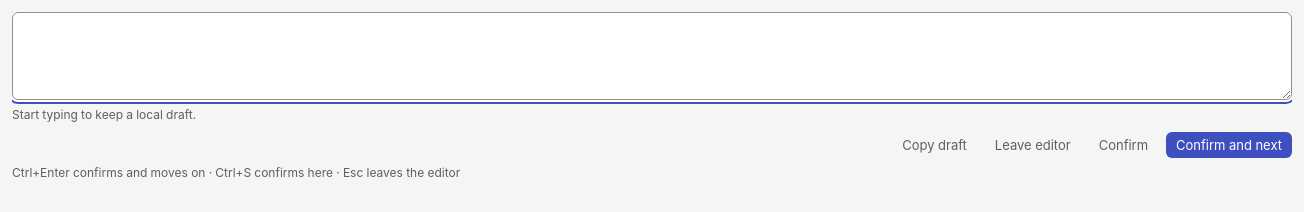
reports a draft as retained only after the journal acknowledgement and keeps journal failures actionable
Type "Unacknowledged" into the text box named "Translation for dialogue.hello". click: (652, 56)
box: [12,12,1292,100]
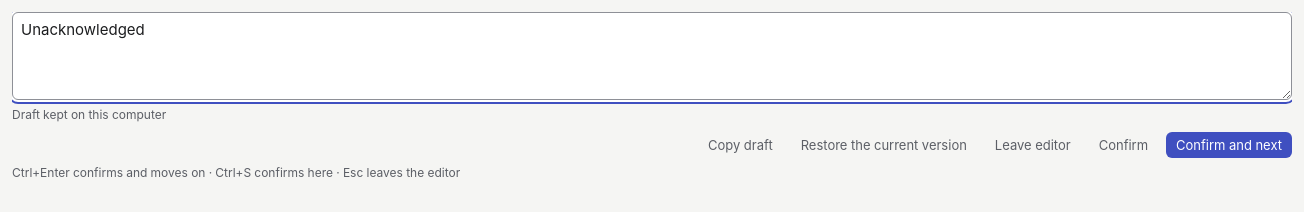
Result: the text "Draft kept on this computer" is shown at [12,107,166,122]
Replace the text in the text box named "Translation for dialogue.hello" with "Still here". click: (652, 56)
box: [12,12,1292,100]
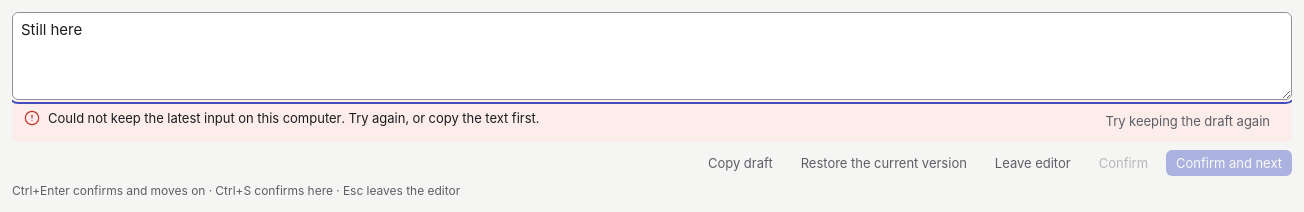
Result: the text "Could not keep the latest input on this computer. Try again, or copy the text first." is shown at [48,110,539,126]
Result: the text "Draft kept on this computer" is gone
Result: the button "Confirm" is disabled at [1089,150,1158,176]
Click the button "Try keeping the draft again". click: (1188, 121)
box: [1096,108,1280,134]
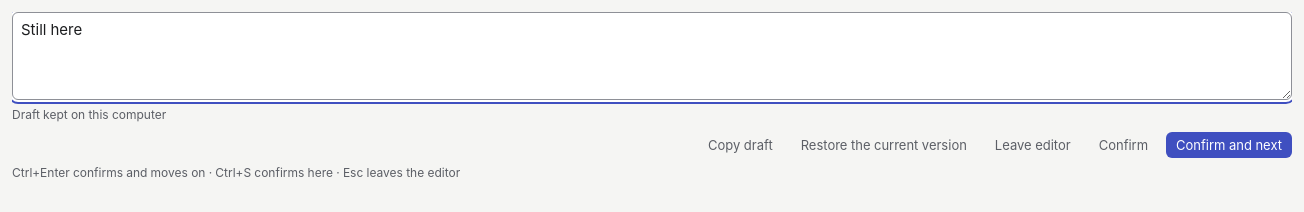
Result: the text "Draft kept on this computer" is shown at [12,107,166,122]
